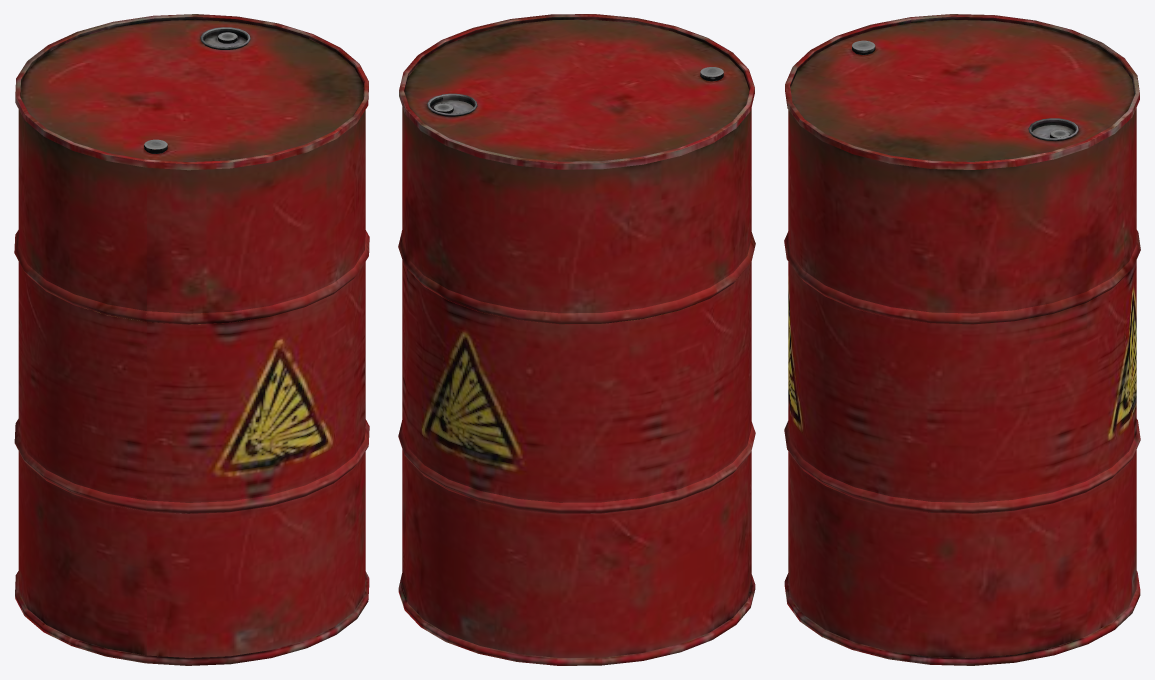
Rendered from Barrel_01.glb.
3 views of the same model, side by side, from view 1: azimuth 30°, elevation 25°; view 2: azimuth 150°, elevation 25°; view 3: azimuth 270°, elevation 25° (orthographic).
Parts seen in each view (by area): view 1: Barrel_01; view 2: Barrel_01; view 3: Barrel_01.
Part boxes in pixels (left/top/right/bottom): Barrel_01: left=14, top=14, right=369, bottom=665; Barrel_01: left=398, top=14, right=755, bottom=665; Barrel_01: left=784, top=14, right=1140, bottom=665.
Size of the model in its own units: 0.5638 by 0.8802 by 0.5638.
Materials: 1 (1 with a texture image).
